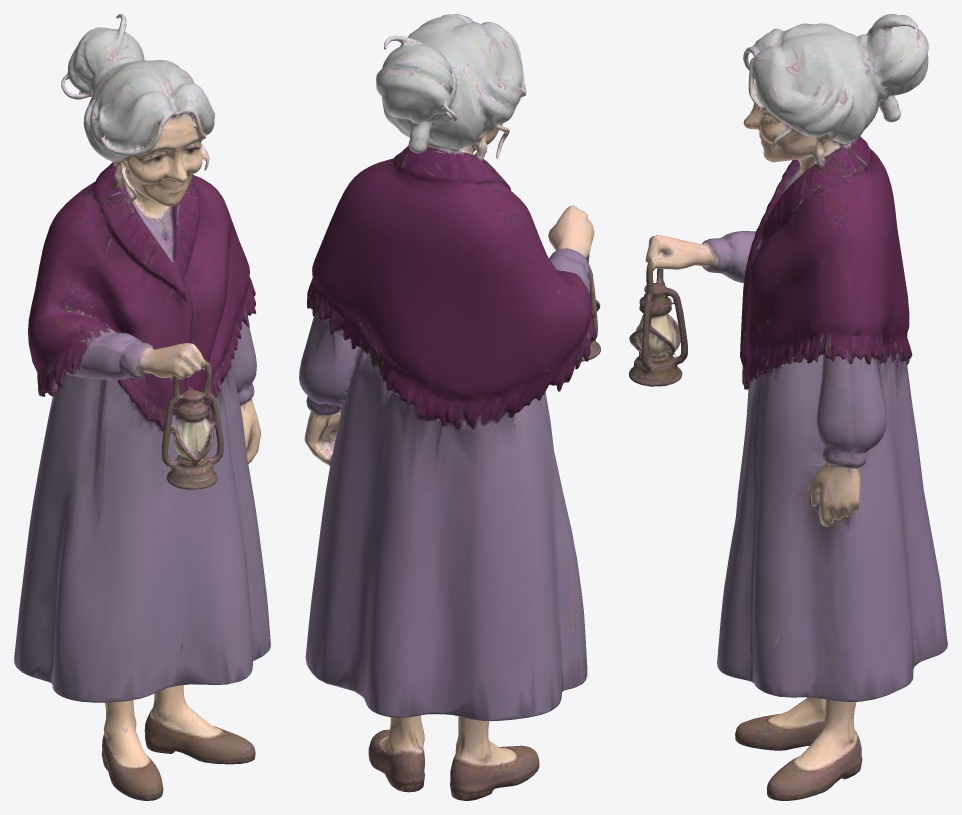
Rendered from npc_marg.glb.
The picture shows the model from 3 angles, left to right: view 1: azimuth 30°, elevation 25°; view 2: azimuth 150°, elevation 25°; view 3: azimuth 270°, elevation 25°; orthographic projection. The views are drawn at different scales.
Parts seen in each view (by area): view 1: Mesh_0; view 2: Mesh_0; view 3: Mesh_0.
Boxes of the visible parts, bbox=[...] form: Mesh_0: bbox=[14, 14, 270, 800]; Mesh_0: bbox=[299, 14, 600, 800]; Mesh_0: bbox=[629, 14, 947, 800].
Bounding box in the file's own units: 0.666 × 1.91 × 0.7433.
1 material, 1 textured.
